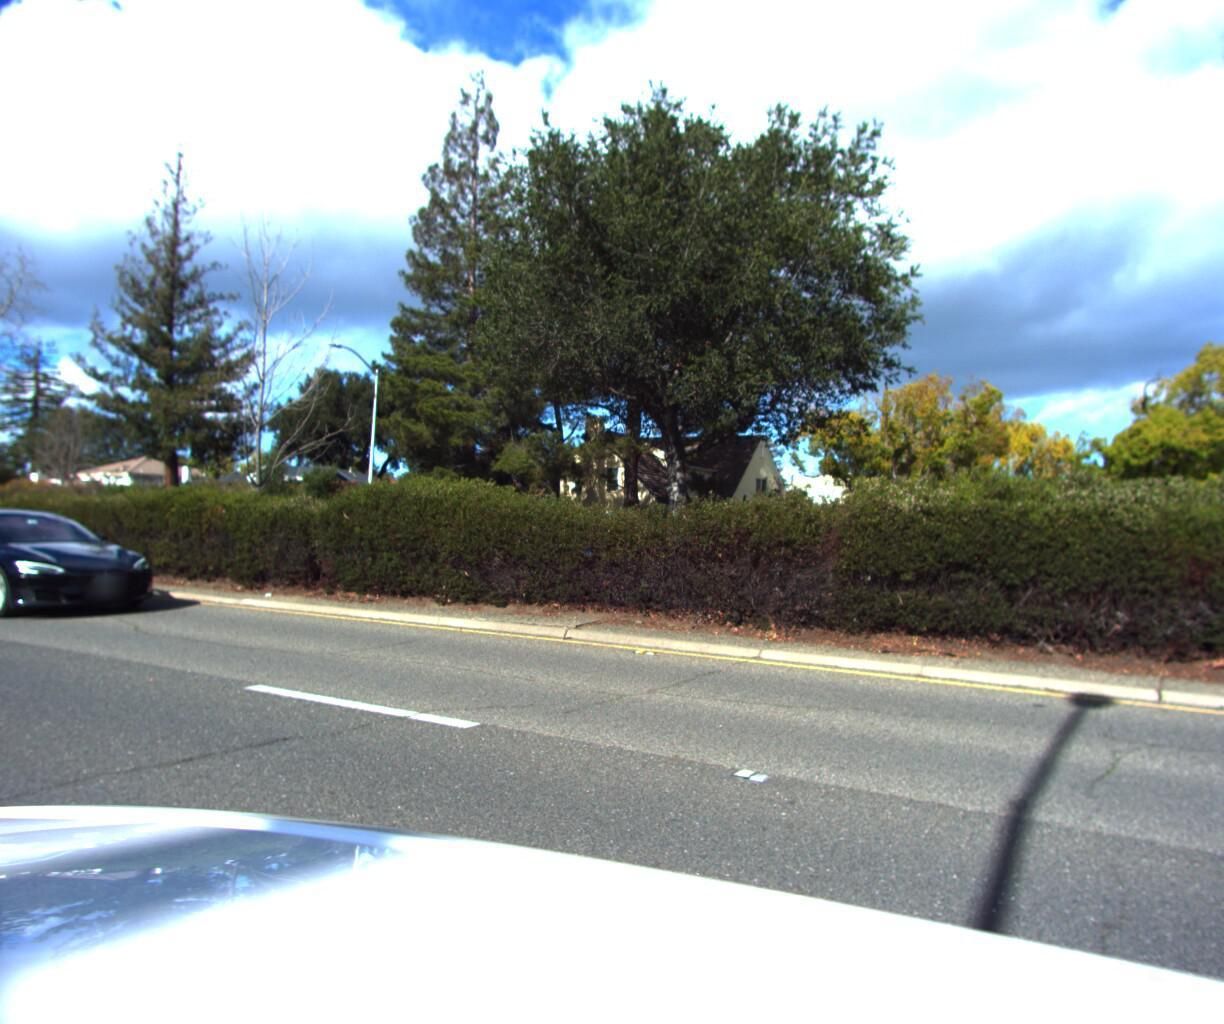car: (0, 506, 192, 634)
